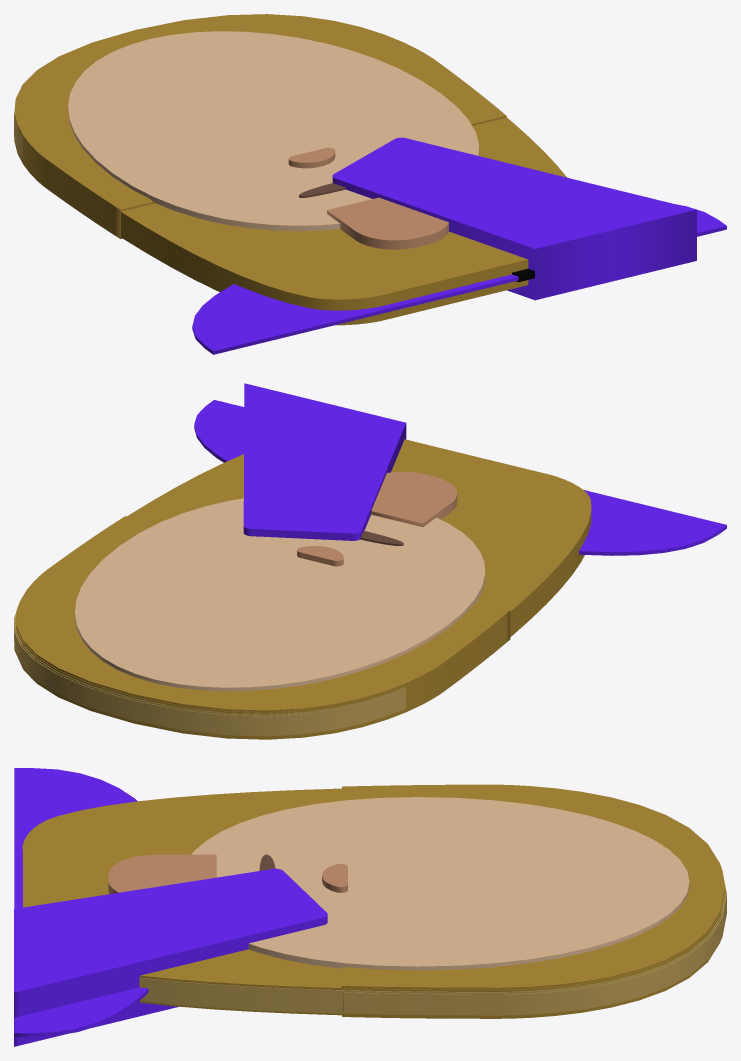
Rendered from emoji_u1f926_1f3fc_200d_2640.glb.
3 views of the same model, one above another, from view 1: azimuth 30°, elevation 25°; view 2: azimuth 150°, elevation 25°; view 3: azimuth 270°, elevation 25° (orthographic). The views are drawn at different scales.
Visible parts, largest first — view 1: emoji_u1f926_1f3fc_200d_2640; view 2: emoji_u1f926_1f3fc_200d_2640; view 3: emoji_u1f926_1f3fc_200d_2640.
Boxes of the visible parts, left/top/right/bottom form: emoji_u1f926_1f3fc_200d_2640: left=14, top=14, right=726, bottom=354; emoji_u1f926_1f3fc_200d_2640: left=14, top=383, right=726, bottom=739; emoji_u1f926_1f3fc_200d_2640: left=14, top=768, right=726, bottom=1046.
Size of the model in its own units: 0.0294 by 0.0028 by 0.0333.
